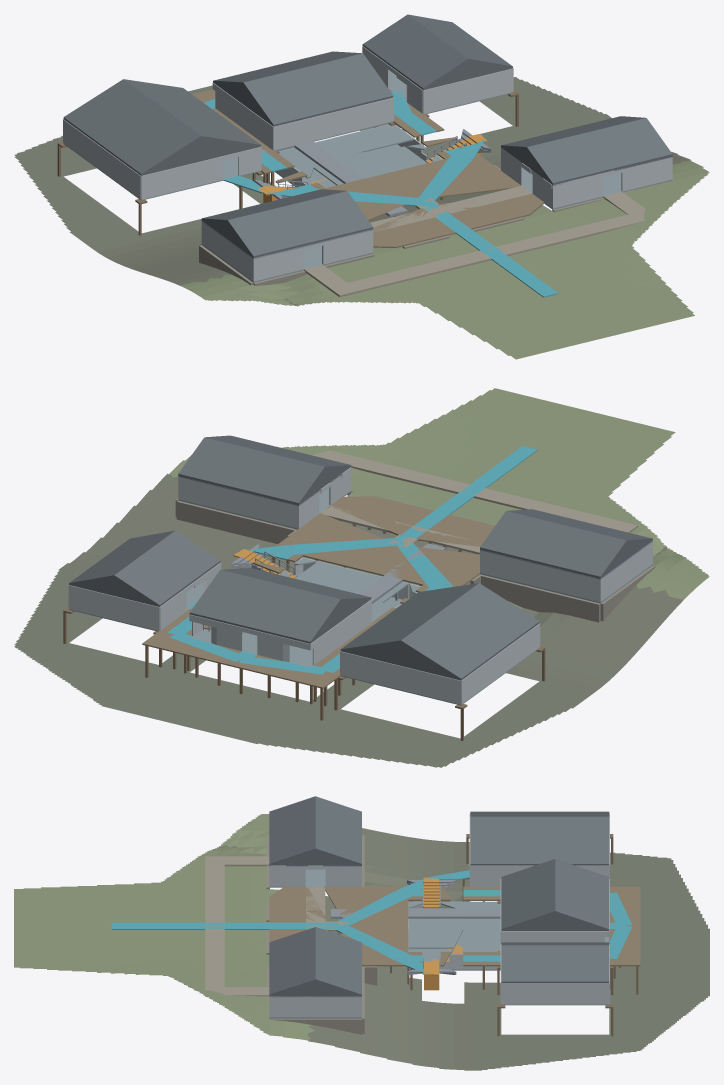
File: rebuilt-entrances.glb
The picture shows the model from 3 angles, top to bottom: view 1: azimuth 30°, elevation 25°; view 2: azimuth 150°, elevation 25°; view 3: azimuth 270°, elevation 25°; orthographic projection. The views are drawn at different scales.
Visible parts, largest first — view 1: Saved editor macroterrain WLD-06, boathouse roof west, fish-house roof south, west-cottage roof south, east-cottage roof south, Entrance rebuild WLD-06 continuous approach pavement region0, net-store roof west, Wall fish S, boathouse roof east, Wall net S, Flat route shell Wall boathouse S, Wall boathouse W (+24 smaller); view 2: Saved editor macroterrain WLD-06, boathouse roof west, fish-house roof north, east-cottage roof north, west-cottage roof north, net-store roof west, Entrance rebuild WLD-06 continuous approach pavement region0, Wall boathouse N, boathouse roof east, Entrance rebuild WLD-06 cottage-a N end, Entrance rebuild WLD-06 cottage-b N end, Wall net N (+23 smaller); view 3: Saved editor macroterrain WLD-06, boathouse roof east, net-store roof east, Entrance rebuild WLD-06 continuous approach pavement region0, fish-house roof south, fish-house roof north, west-cottage roof north, west-cottage roof south, east-cottage roof north, east-cottage roof south, Wall net E, Entrance rebuild WLD-06 cottage-b E end (+21 smaller).
Part boxes in pixels (x1=…): Saved editor macroterrain WLD-06: x1=14, y1=77, x2=709, y2=359; boathouse roof west: x1=63, y1=79, x2=200, y2=174; fish-house roof south: x1=243, y1=53, x2=393, y2=126; west-cottage roof south: x1=227, y1=191, x2=373, y2=257; east-cottage roof south: x1=527, y1=118, x2=672, y2=184; Entrance rebuild WLD-06 continuous approach pavement region0: x1=304, y1=192, x2=657, y2=297; net-store roof west: x1=362, y1=14, x2=468, y2=89; Wall fish S: x1=273, y1=97, x2=393, y2=150; boathouse roof east: x1=124, y1=79, x2=260, y2=146; Wall net S: x1=423, y1=68, x2=513, y2=113; Flat route shell Wall boathouse S: x1=141, y1=156, x2=223, y2=199; Wall boathouse W: x1=63, y1=119, x2=141, y2=199; Saved editor macroterrain WLD-06: x1=14, y1=388, x2=709, y2=767; boathouse roof west: x1=401, y1=583, x2=539, y2=680; fish-house roof north: x1=189, y1=570, x2=340, y2=643; east-cottage roof north: x1=178, y1=437, x2=324, y2=504; west-cottage roof north: x1=480, y1=511, x2=626, y2=578; net-store roof west: x1=114, y1=530, x2=220, y2=606; Entrance rebuild WLD-06 continuous approach pavement region0: x1=311, y1=450, x2=637, y2=532; Wall boathouse N: x1=340, y1=651, x2=461, y2=704; boathouse roof east: x1=340, y1=583, x2=478, y2=650; Entrance rebuild WLD-06 cottage-a N end: x1=480, y1=550, x2=601, y2=602; Entrance rebuild WLD-06 cottage-b N end: x1=178, y1=477, x2=299, y2=528; Wall net N: x1=68, y1=585, x2=159, y2=630; Saved editor macroterrain WLD-06: x1=14, y1=814, x2=709, y2=1070; boathouse roof east: x1=470, y1=816, x2=609, y2=865; net-store roof east: x1=501, y1=945, x2=609, y2=982; Entrance rebuild WLD-06 continuous approach pavement region0: x1=205, y1=856, x2=269, y2=996; fish-house roof south: x1=501, y1=859, x2=555, y2=930; fish-house roof north: x1=555, y1=859, x2=609, y2=930; west-cottage roof north: x1=315, y1=796, x2=361, y2=864; west-cottage roof south: x1=269, y1=796, x2=315, y2=864; east-cottage roof north: x1=315, y1=927, x2=361, y2=995; east-cottage roof south: x1=269, y1=927, x2=315, y2=995; Wall net E: x1=501, y1=983, x2=609, y2=1004; Entrance rebuild WLD-06 cottage-b E end: x1=269, y1=996, x2=361, y2=1017.
Bounding box in the file's own units: 70 × 11.1 × 90.
Materials: 38 (13 with a texture image).
